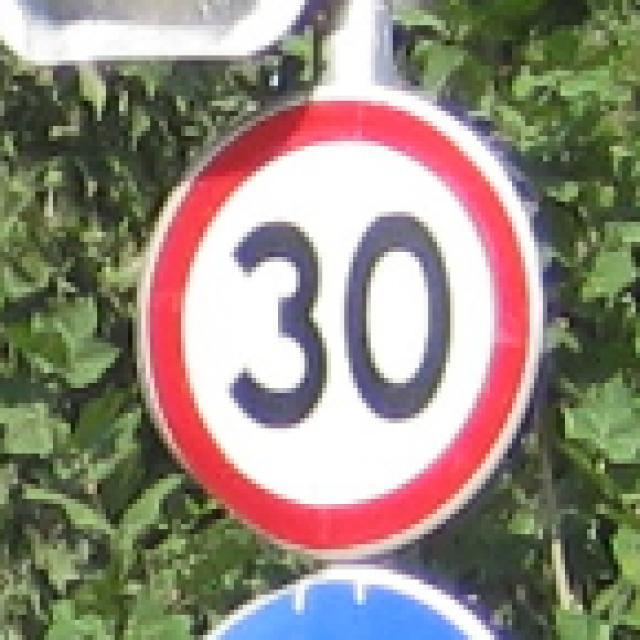speed limit 30: (137, 90, 543, 560)
